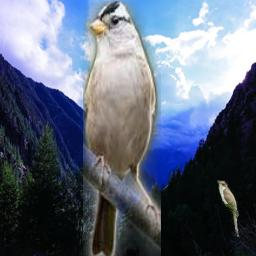Cuckoo: (216, 179, 239, 237)
Sparrow: (83, 1, 161, 256)
